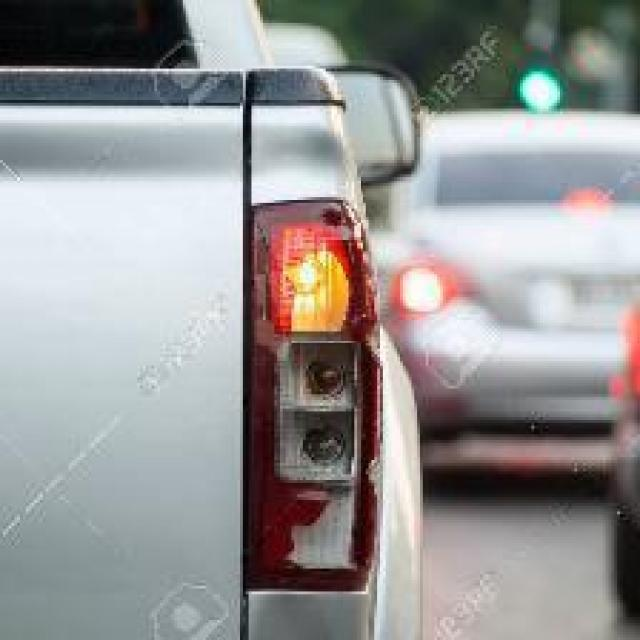damaged: (277, 251, 377, 583)
